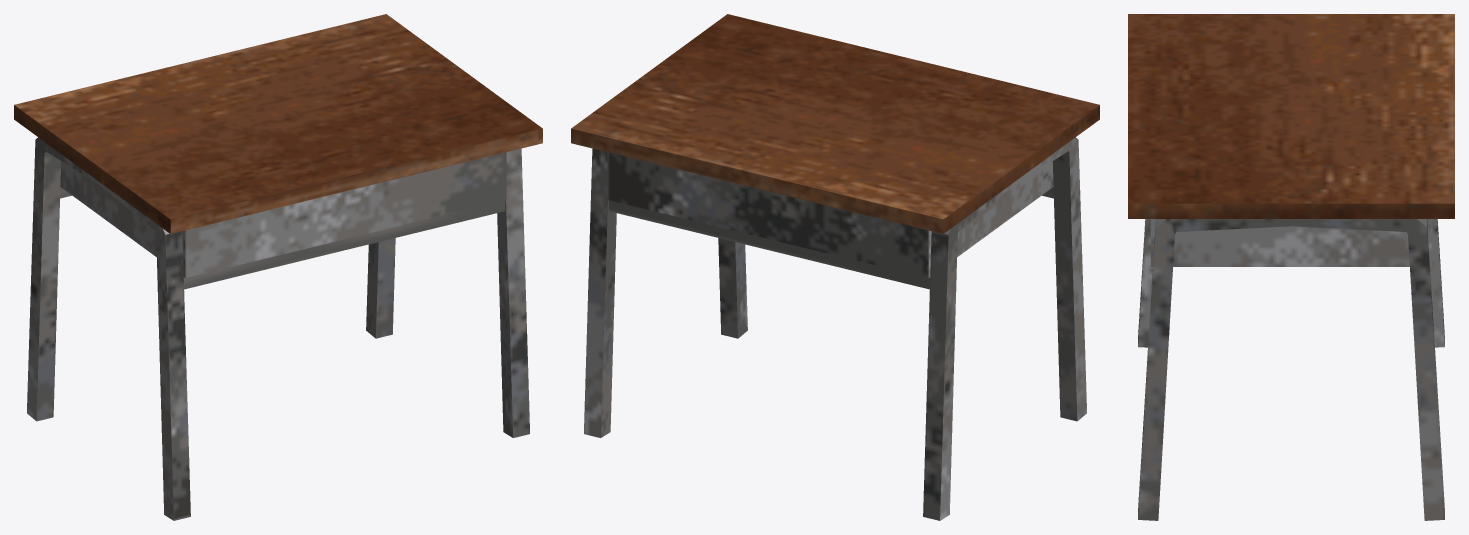
Rendered from Desk.fbx.
The picture shows the model from 3 angles, left to right: view 1: azimuth 30°, elevation 25°; view 2: azimuth 150°, elevation 25°; view 3: azimuth 270°, elevation 25°; orthographic projection. The views are drawn at different scales.
Parts seen in each view (by area): view 1: Table; view 2: Table; view 3: Table.
Boxes of the visible parts, x1,y1,x2,y2 form: Table: (14, 14, 542, 520); Table: (571, 14, 1099, 520); Table: (1128, 14, 1454, 520).
Size of the model in its own units: 89.99 by 71.13 by 65.53.
